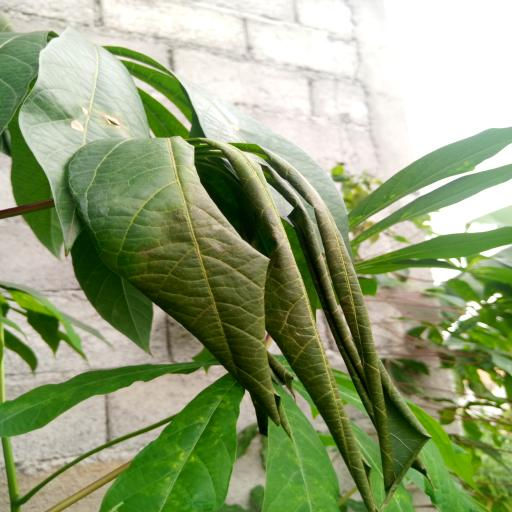Cassava_Root_Rot: (80, 122, 428, 492)
